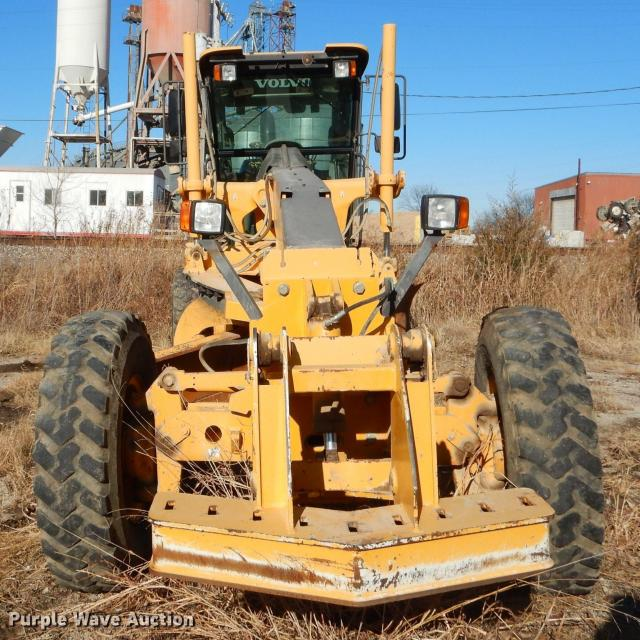Grader: (25, 37, 640, 620)
